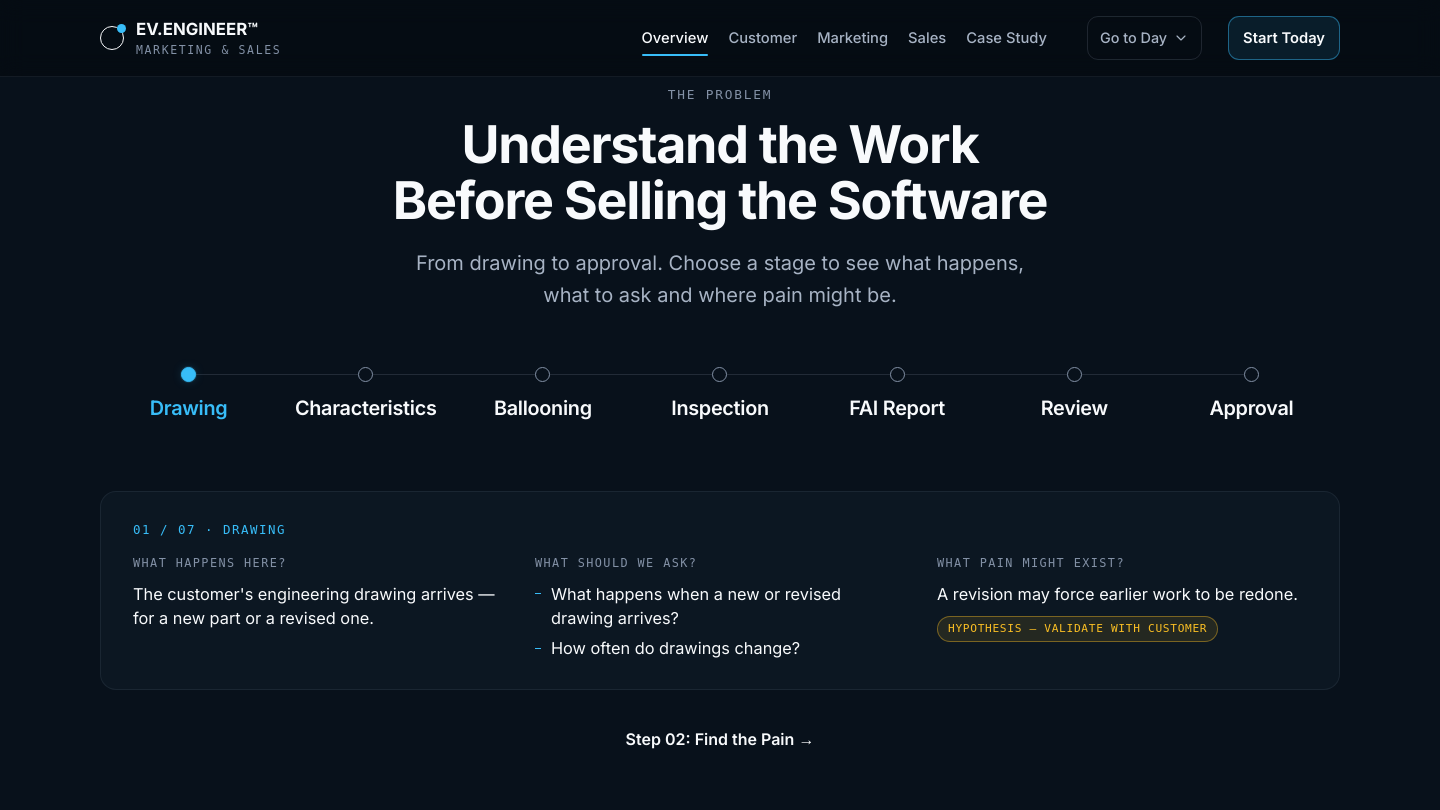
Test case: Marketing & Sales overview: short, simple, beginner first › explains the work before the software, every pain tagged as a hypothesis
(page scrolled)
Click the button "Ballooning" at (543, 405), box [454, 367, 631, 443]
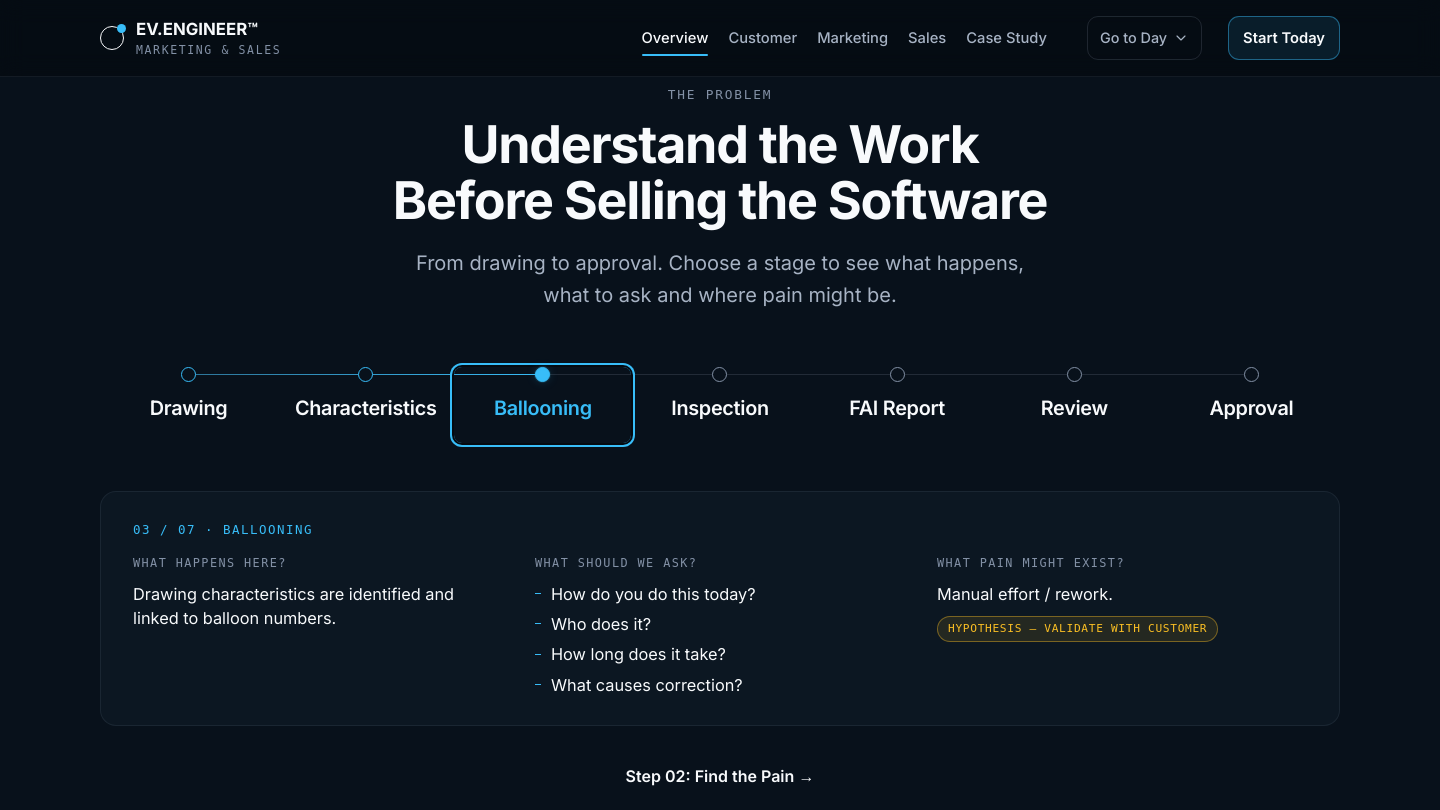
Expected: the element with id "rv-flow-fai-workflow" shows "Drawing characteristics are identified and linked to balloon numbers.", [133, 584, 454, 628]
Expected: the list items read "How do you do this today?", "Who does it?", "How long does it take?", "What causes correction?", in this order, [551, 584, 756, 604]; [551, 614, 651, 634]; [551, 644, 726, 664]; [551, 675, 743, 695]
Expected: the element with id "rv-flow-fai-workflow" shows "Manual effort / rework.", [937, 584, 1113, 604]
